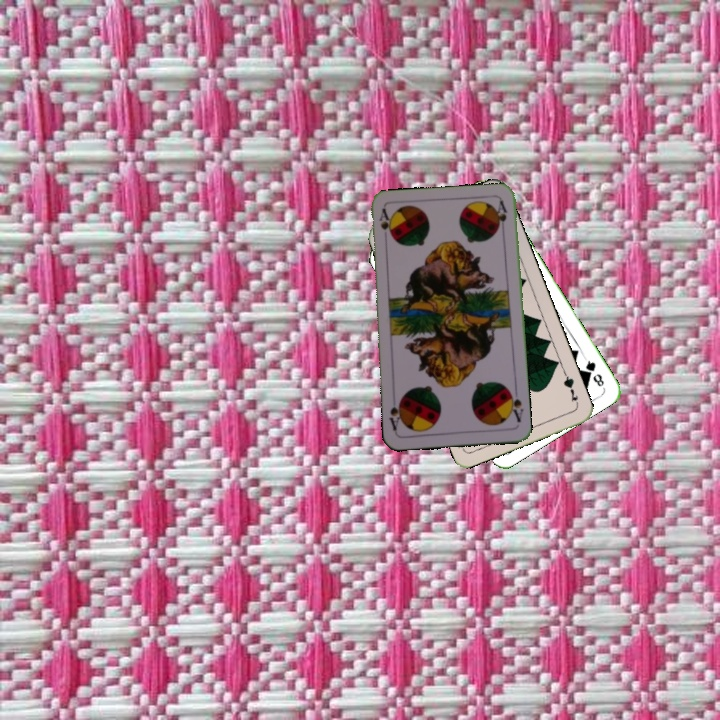G7: (559, 369, 581, 408)
G8: (580, 354, 607, 389)
SA: (504, 386, 525, 425), (375, 205, 394, 240)
